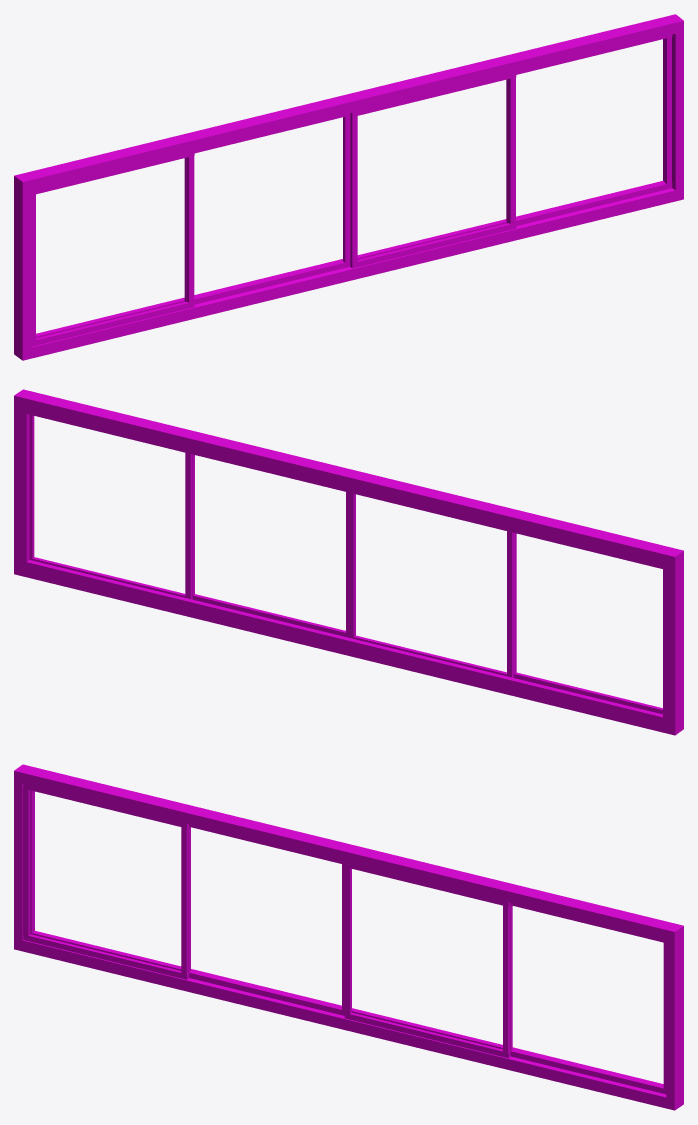
Rendered from Window_B_02.fbx.
The picture shows the model from 3 angles, top to bottom: view 1: azimuth 30°, elevation 25°; view 2: azimuth 150°, elevation 25°; view 3: azimuth 330°, elevation 25°; orthographic projection.
Parts seen in each view (by area): view 1: Window_B_02; view 2: Window_B_02; view 3: Window_B_02.
Boxes of the visible parts, x1,y1,x2,y2 form: Window_B_02: (14,14,683,360); Window_B_02: (14,389,683,735); Window_B_02: (14,764,683,1110).
Bounding box in the file's own units: 470 × 121 × 10.81.
